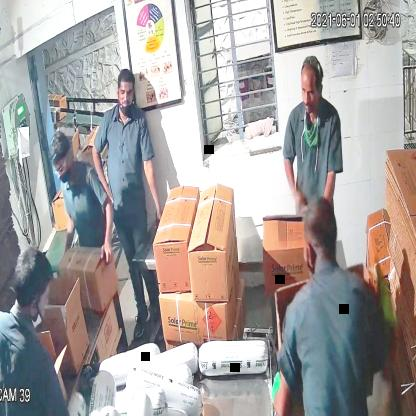goggles: (46, 152, 76, 179)
no_goggles: (299, 81, 326, 102), (113, 84, 137, 102)
